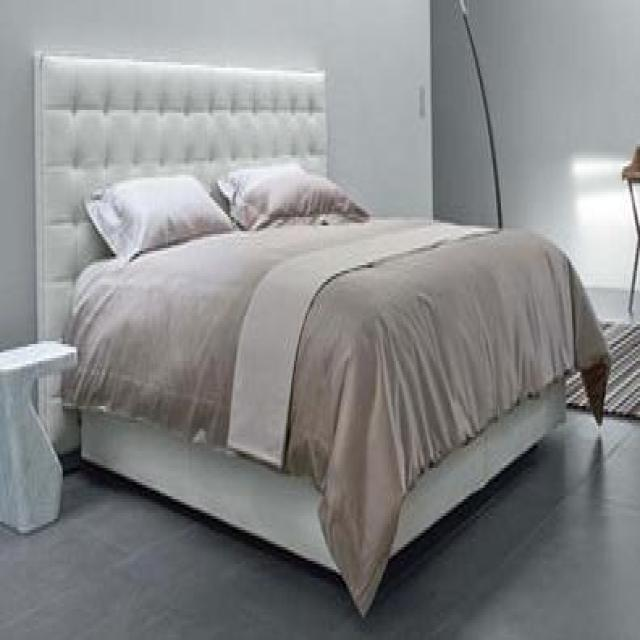bed: (32, 61, 610, 623)
